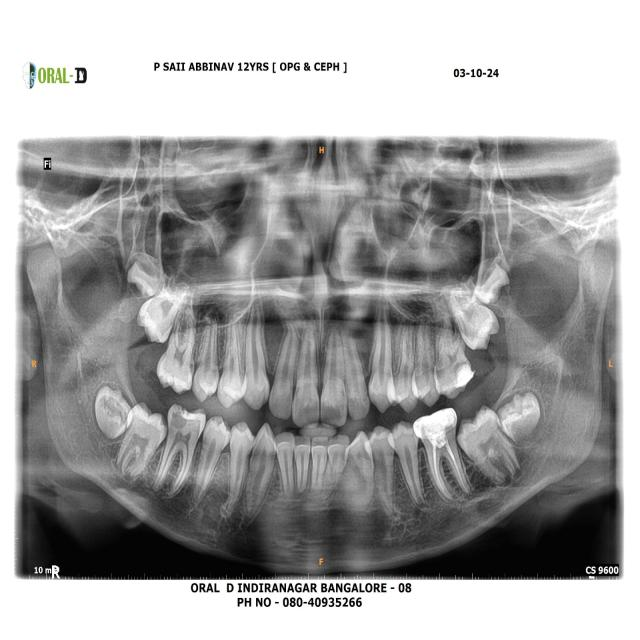Premolars: (385, 421, 426, 516), (366, 425, 401, 519)
